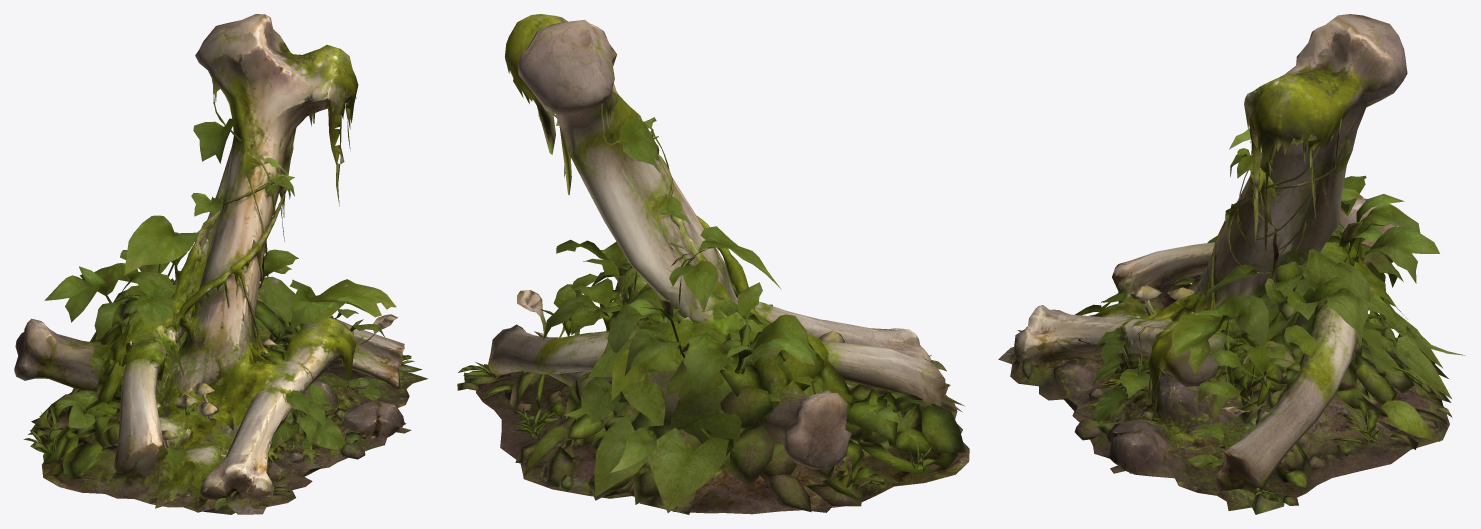
The model's file is Huesos.fbx.
The picture shows the model from 3 angles, left to right: view 1: azimuth 30°, elevation 25°; view 2: azimuth 150°, elevation 25°; view 3: azimuth 270°, elevation 25°; orthographic projection. The views are drawn at different scales.
Visible parts, largest first — view 1: Mesh_0; view 2: Mesh_0; view 3: Mesh_0.
Boxes of the visible parts, x1=… form: Mesh_0: x1=14, y1=14, x2=427, y2=514; Mesh_0: x1=457, y1=14, x2=969, y2=514; Mesh_0: x1=998, y1=14, x2=1465, y2=514.
Size of the model in its own units: 96.14 by 82.32 by 82.91.
1 material, 1 textured.
